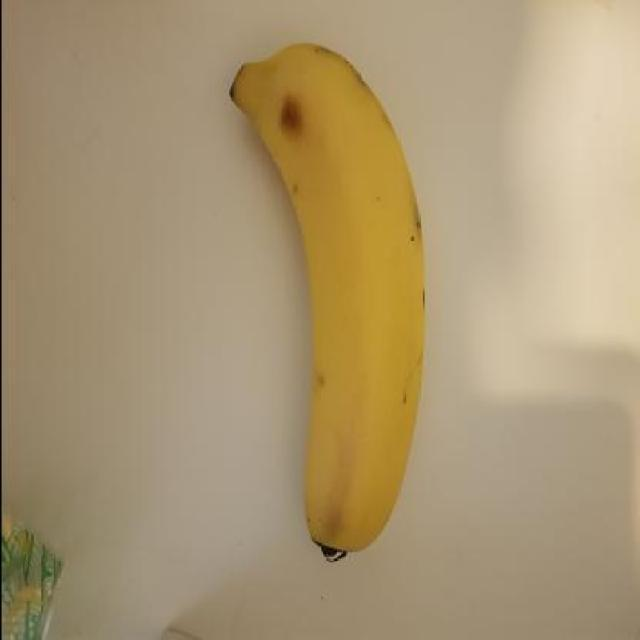Banana: (226, 28, 431, 570)
